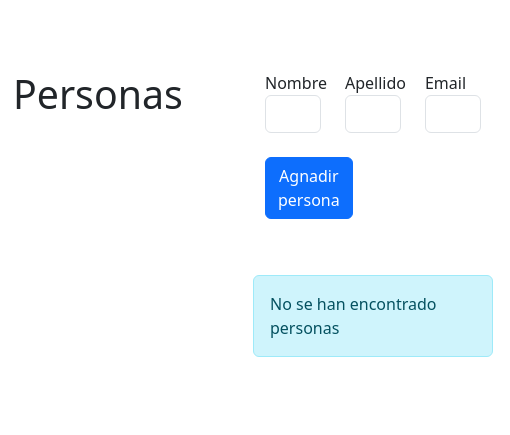
Test: Edit persona › Edit-persona › Add persona OK
In the field with test id "name": x=293, y=114 [265,95,321,133], type "Paco1234"
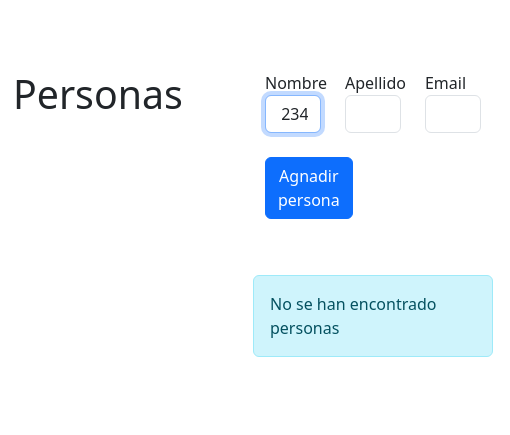
In the field with test id "surname": x=373, y=114 [345,95,401,133], type "Land"
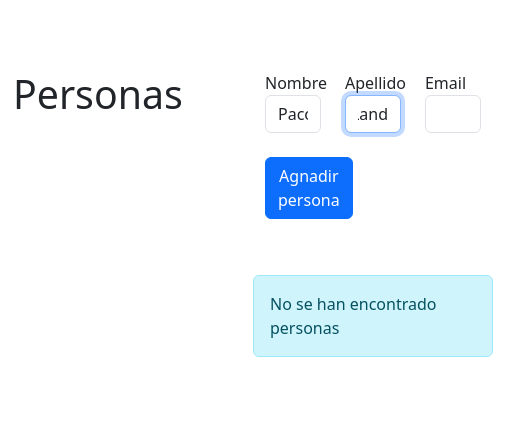
In the field with test id "email": x=453, y=114 [425,95,481,133], type "paco@land.com"
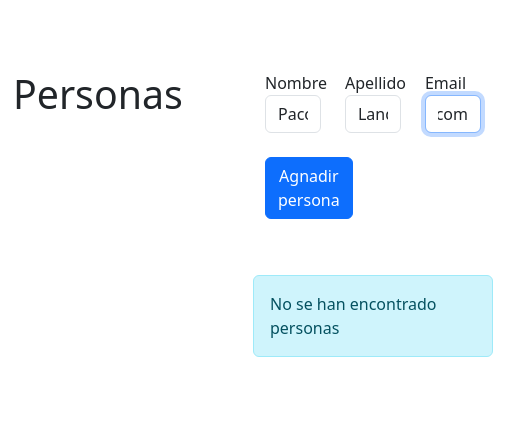
Click the button with test id "add-button": x=309, y=188 [265,157,353,219]
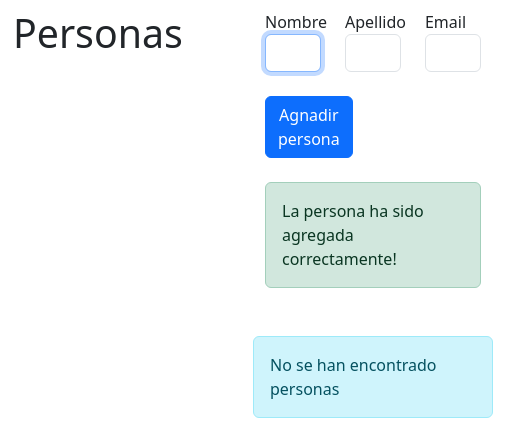
Result: the message "La persona ha sido agregada correctamente!" is shown at [265,182,481,288]
